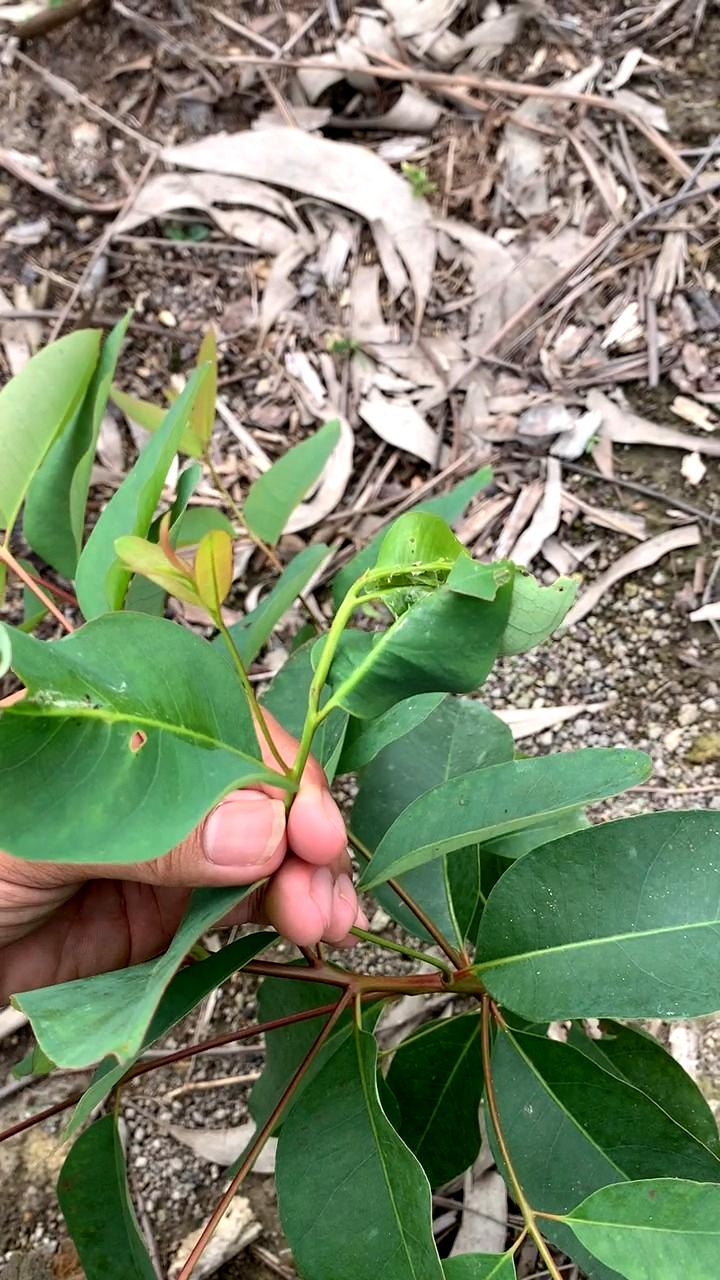Leaf Roller - Leaf: (301, 513, 556, 740)
